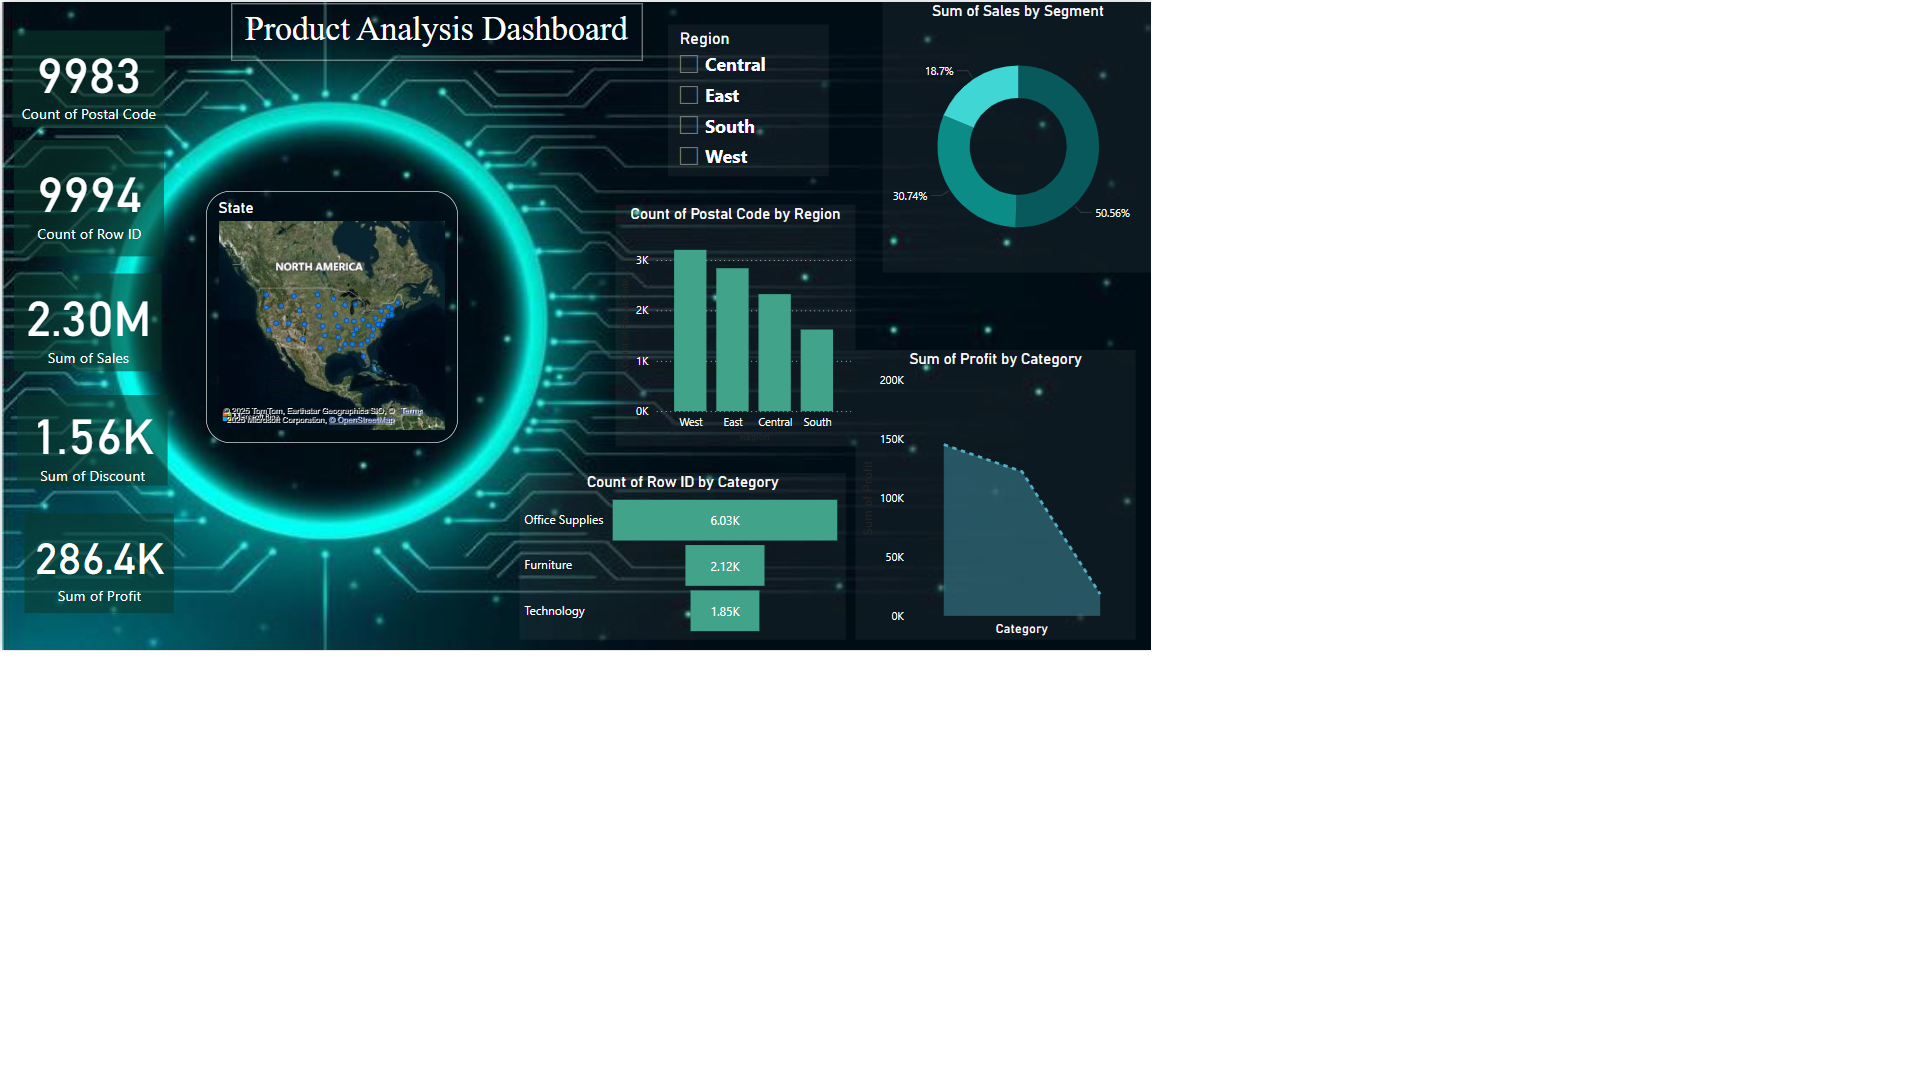

This screenshot's page, from the dashboard's own definition file:
{"tool":"powerbi","page":{"name":"Page 1","canvas":[1280,720],"ordinal":0},"visuals":[{"type":"map","fields":{"Category":["Orders.State"]},"box":[226.1,210.4,279.7,279.7],"z":0},{"type":"card","fields":{"Values":["Sum(Orders.Discount)"]},"box":[16.8,435.9,167.5,100.8],"z":1000},{"type":"card","fields":{"Values":["Sum(Orders.Sales)"]},"box":[13,300.9,164.3,108.4],"z":2000},{"type":"card","fields":{"Values":["Sum(Orders.Profit)"]},"box":[25.5,568.7,165.9,110.6],"z":3000},{"type":"card","fields":{"Values":["CountNonNull(Orders.Row ID)"]},"box":[13,152.9,167,129.6],"z":4000},{"type":"card","fields":{"Values":["CountNonNull(Orders.Postal Code)"]},"box":[12.5,31.4,169.2,107.4],"z":5000},{"type":"funnel","fields":{"Y":["CountNonNull(Orders.Row ID)"],"Category":["Orders.Category"]},"box":[574.2,523.7,362.7,185.4],"z":6000},{"type":"textbox","box":[255,1.7,456.7,63.3],"z":7000},{"type":"donutChart","fields":{"Y":["Sum(Orders.Sales)"],"Category":["Orders.Segment"]},"box":[979.1,0,300.9,300.9],"z":8000},{"type":"areaChart","fields":{"Category":["Orders.Category"],"Y":["Sum(Orders.Profit)"]},"box":[947.7,387.1,311.2,322.1],"z":9000},{"type":"columnChart","fields":{"Y":["CountNonNull(Orders.Postal Code)"],"Category":["Orders.Region"]},"box":[681.7,225,266.7,268.3],"z":10000},{"type":"slicer","fields":{"Values":["Orders.Region"]},"box":[740,25,178.3,168.3],"z":10001}]}

Visuals, with their boxes in screenshot pixels (x1, y1, x2, y2), scaled from the page's 1280x720 canvas onto the 1920x1080 screenshot:
map - Orders.State: detection(339, 316, 759, 735)
card - Sum(Orders.Discount): detection(25, 654, 276, 805)
card - Sum(Orders.Sales): detection(20, 451, 266, 614)
card - Sum(Orders.Profit): detection(38, 853, 287, 1019)
card - CountNonNull(Orders.Row ID): detection(20, 229, 270, 424)
card - CountNonNull(Orders.Postal Code): detection(19, 47, 273, 208)
funnel - CountNonNull(Orders.Row ID) x Orders.Category: detection(861, 786, 1405, 1064)
textbox: detection(382, 3, 1068, 98)
donutChart - Sum(Orders.Sales) x Orders.Segment: detection(1469, 0, 1919, 451)
areaChart - Orders.Category x Sum(Orders.Profit): detection(1422, 581, 1888, 1064)
columnChart - CountNonNull(Orders.Postal Code) x Orders.Region: detection(1023, 338, 1423, 740)
slicer - Orders.Region: detection(1110, 38, 1377, 290)
